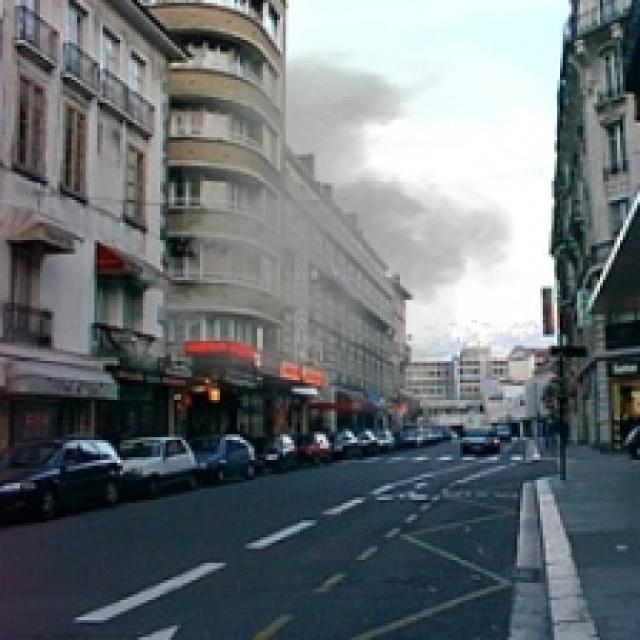smoke: (106, 46, 531, 420)
